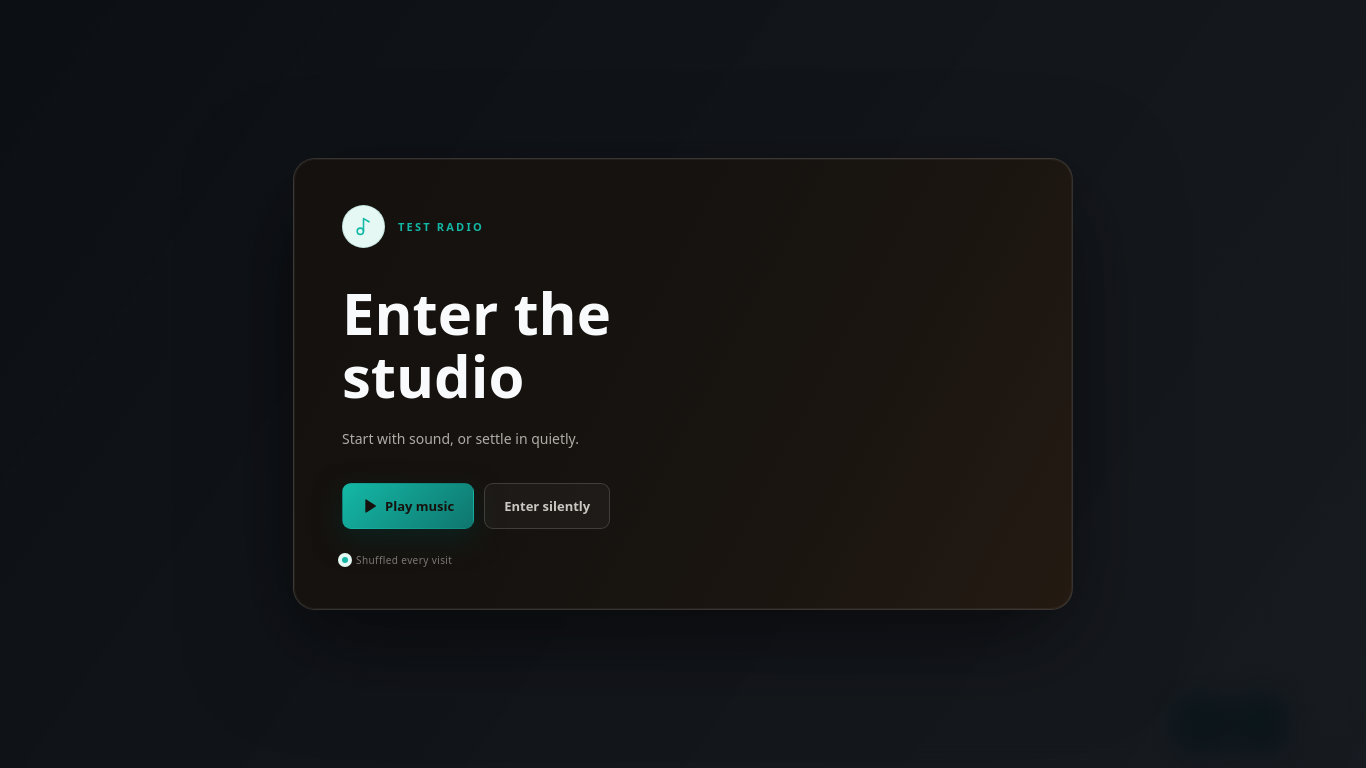
Test case: Sub2ApiRadio › starts playback and remembers the choice when entering with music
Click the button with test id "radio-intro-play". click: (408, 506)
box: [342, 483, 474, 529]
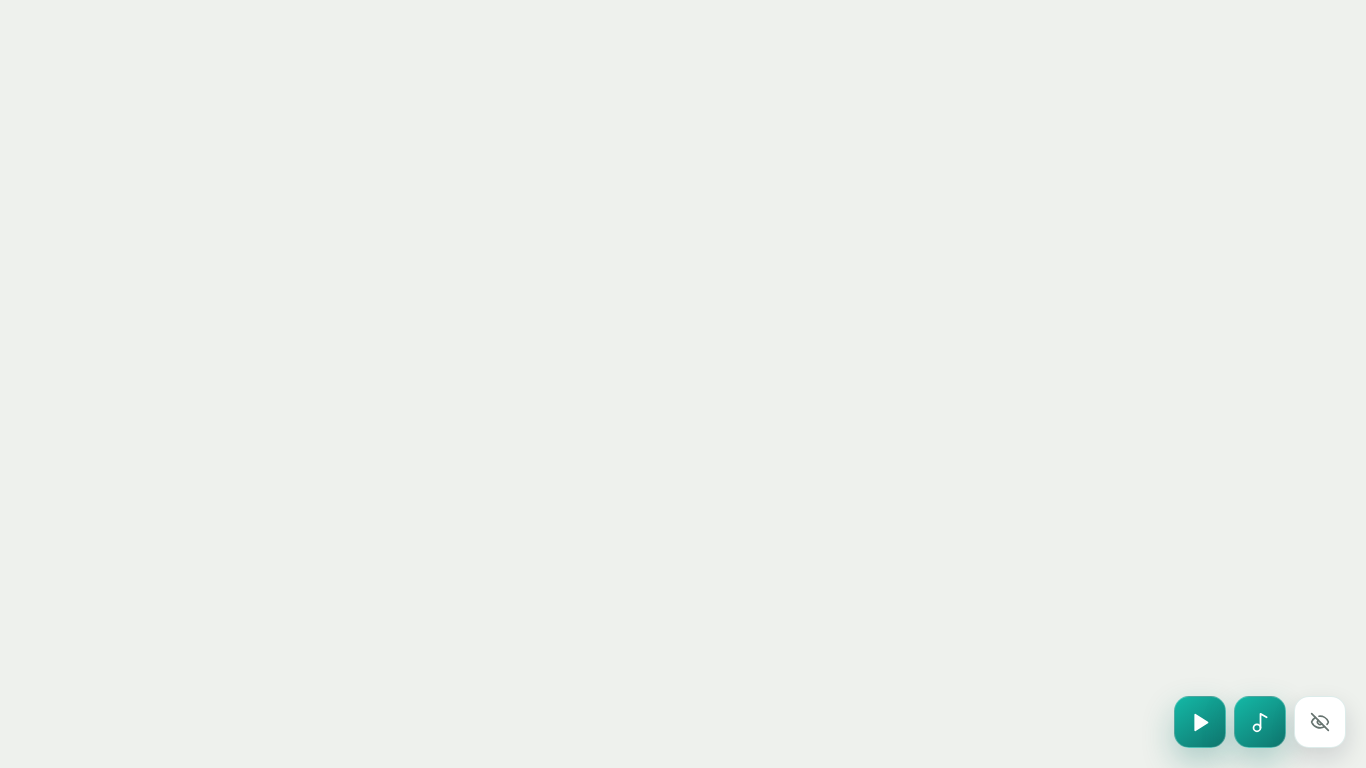
expect the dialog with test id "radio-intro" is gone: met
